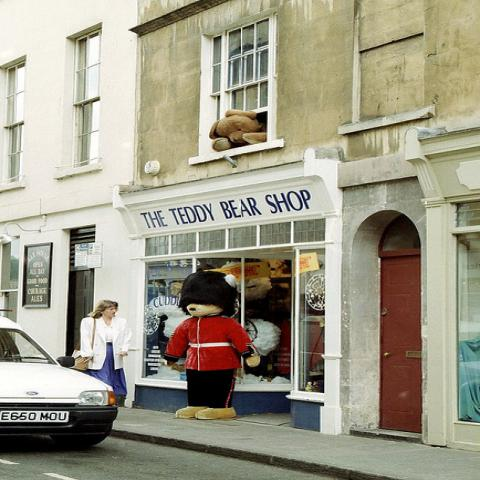car: (0, 316, 117, 447)
